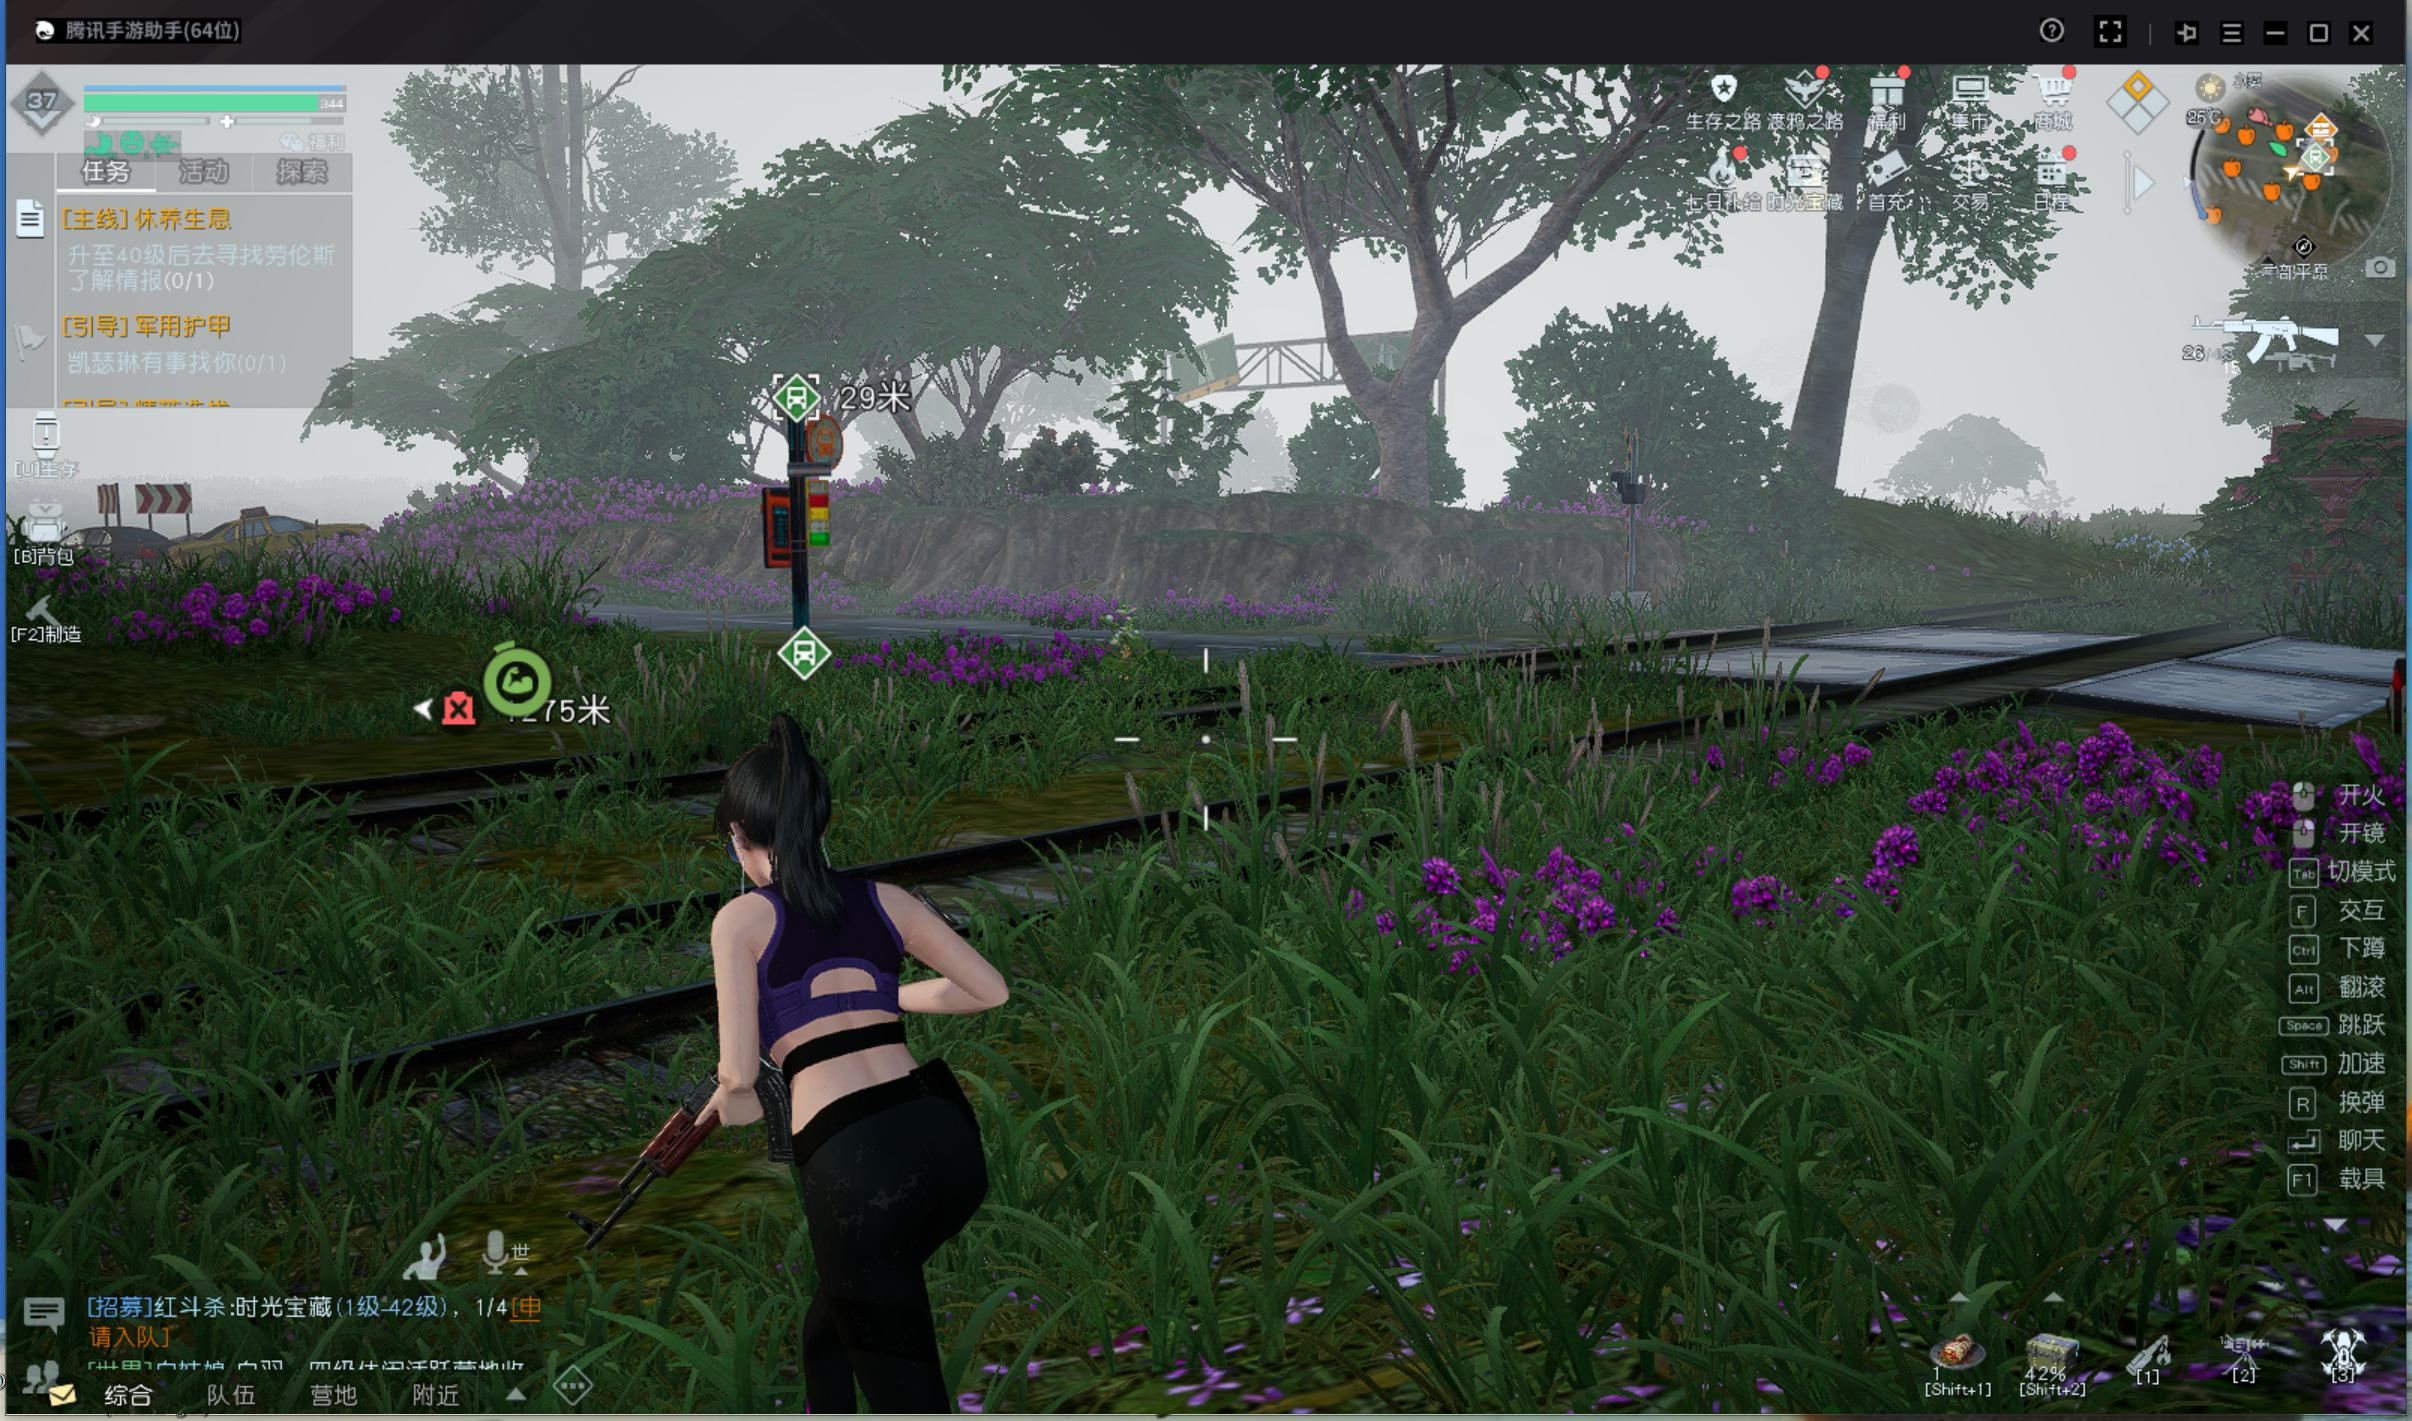tree: (1783, 211, 1879, 536), (1360, 372, 1451, 523)
